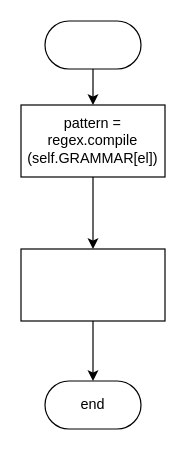
This 186x450 diagram has some shape labels left out. Each missing label, with the centre of its shape:
"begin" goes at point (92, 44).
"return pattern.findall(kb)" goes at point (92, 284).
